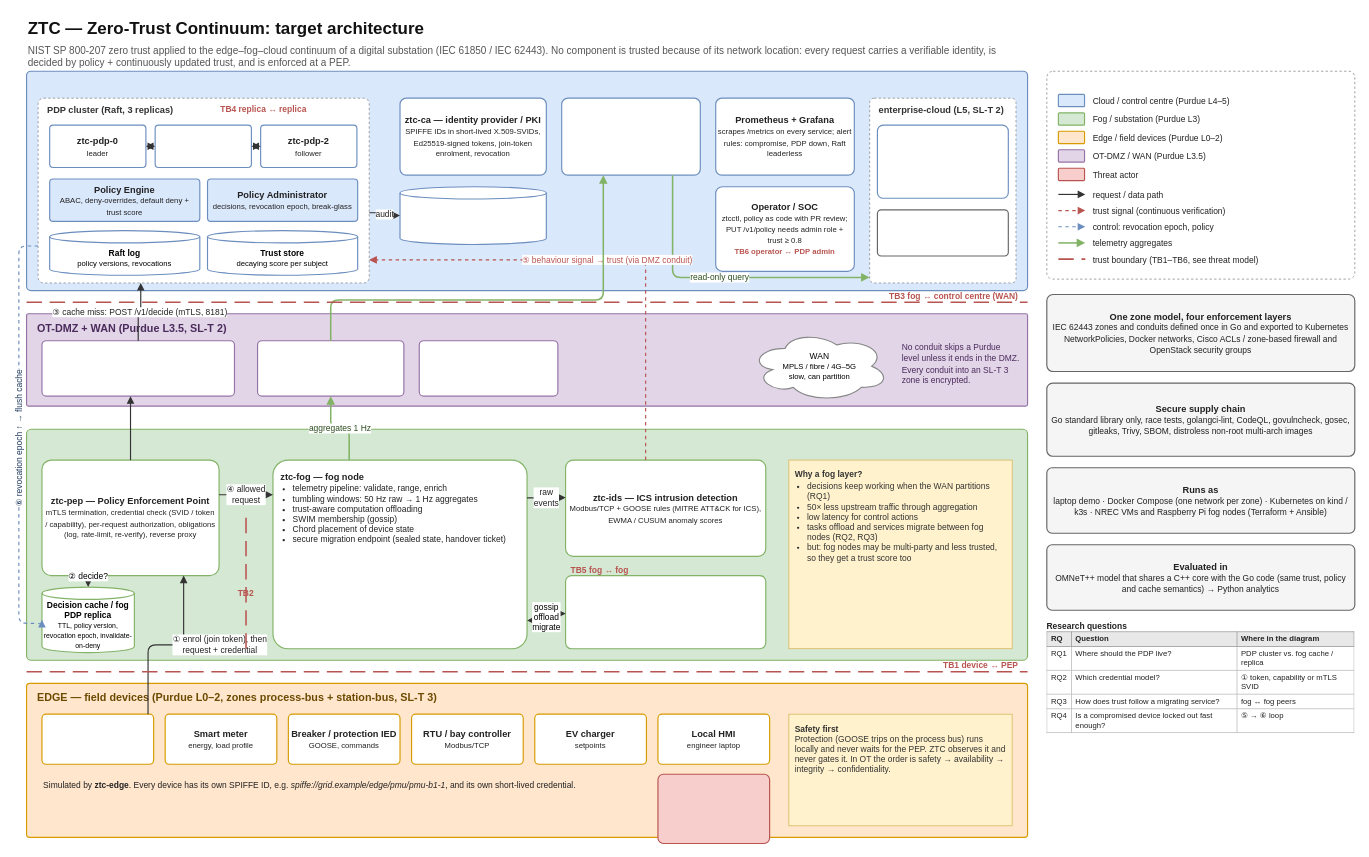
Image size: 1369x857. Some labels were removed from this diagram. The box of each missing label's shape, as (x1, y1, x2, y2) in pixels:
analytics (Python) anomaly detection, campaign statistics, thesis figures: (876, 124, 1009, 199)
Audit log append-only, hash-chained, HLC timestamps: (399, 186, 547, 245)
Broker MQTT over TLS, update server: (257, 340, 404, 396)
Business systems read-only views: (876, 209, 1009, 256)
CLOUD — control centre (Purdue L4, zone control-centre, SL-T 3): (26, 70, 1028, 291)
FOG — substation (Purdue L3, zone substation-fog, SL-T 3): (26, 428, 1028, 661)
Jump host operator access with MFA, session recording: (418, 340, 558, 396)
Legend: (1046, 70, 1355, 279)
PMU synchrophasors 50 Hz: (41, 713, 154, 764)
SUB1-FW zone-based firewall, IKEv2/IPsec site-to-site to the control centre: (41, 340, 235, 396)
Threat compromised PMU (false data injection), rogue laptop, replay, flood: (657, 773, 770, 844)
ztc-fog peers offload targets, migration targets, Chord ring members: (565, 575, 766, 649)
ztc-ingest time-series store for fog aggregates, JSON / CSV API: (561, 97, 701, 175)
ztc-pdp-1 follower: (154, 124, 252, 168)
